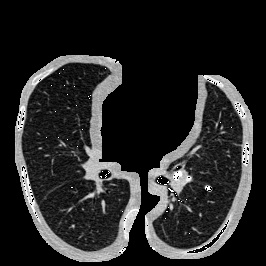PN: (204, 184, 212, 192)
